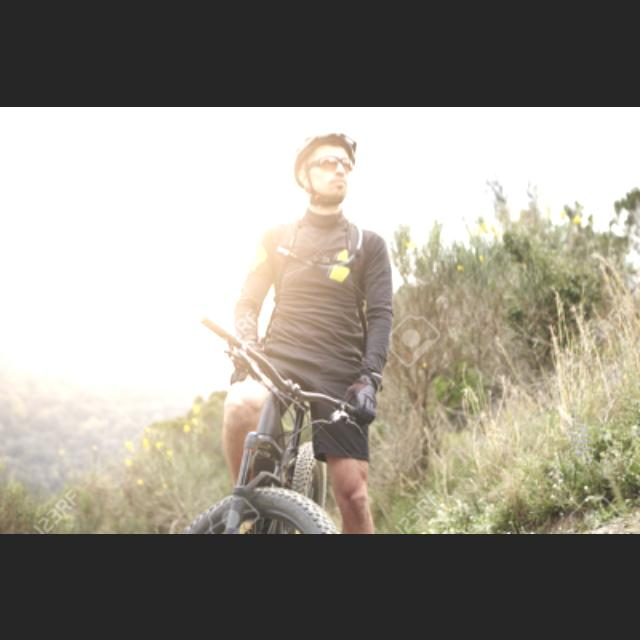With Helmet: (280, 119, 376, 209)
